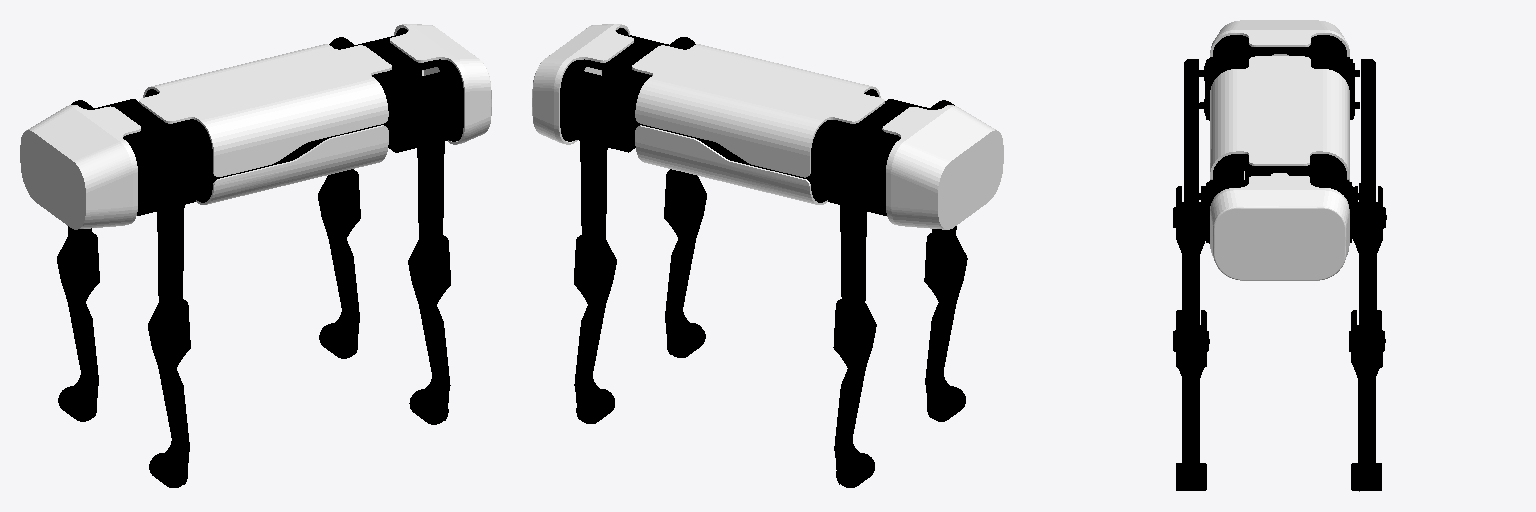
robot.urdf — Dog:
<?xml version="1.0"?>
<robot name="Dog">
    <material name="white">
        <color rgba="1 1 1 1" />
    </material>
    <material name="black">
        <color rgba="0 0 0 1" />
    </material>
    <material name="foot_color">
        <color rgba="0 0.75 1 1" />
    </material>
    <link name="base_link">
        <visual>
            <geometry>
                <mesh filename="package://URDF/frame.stl" />
            </geometry>
            <origin rpy="0 0 3.141" xyz="0 0 0.0" />
            <material name="black" />
        </visual>
        <inertial>
            <mass value="1.5" />
            <inertia ixx="0" ixy="0" ixz="0" iyy="0" iyz="0" izz="0" />
        </inertial>
    </link>
    <!-- shell -->
    <link name="frame">
        <visual>
            <geometry>
                <mesh filename="package://URDF/shell.stl" />
            </geometry>
            <origin rpy="0 0 3.141" xyz="0 0 0" />
            <material name="white" />
        </visual>
        <inertial>
            <mass value="0.025" />
            <inertia ixx="0.4" ixy="0.4" ixz="0.4" iyy="0.4" iyz="0.4" izz="0.4" />
        </inertial>
        <collision>
            <geometry>
                <mesh filename="package://URDF/shell.stl" />
            </geometry>
            <origin rpy="0 0 3.141" xyz="0 0 0.0" />
        </collision>
    </link>
    <joint name="base_to_frame" type="fixed">
        <parent link="base_link" />
        <child link="frame" />
        <origin xyz="0 0 0" />
    </joint>
    <!-- lf shoulder -->
    <link name="lf_shoulder">
        <visual>
            <geometry>
                <mesh filename="package://URDF/lf shoulder.stl" />
            </geometry>
            <origin rpy="3.141 3.141 0" xyz="0 0 0" />
            <material name="black" />
        </visual>
        <inertial>
            <mass value="0.025" />
            <inertia ixx="0.4" ixy="0.4" ixz="0.4" iyy="0.4" iyz="0.4" izz="0.4" />
        </inertial>
    </link>
    <joint name="lf_shoulder" type="continuous">
        <parent link="base_link" />
        <child link="lf_shoulder" />
        <origin xyz="0.090 0.037 0" />
        <axis xyz="1 0 0" />
    </joint>
    <link name="lf_thigh">
        <visual>
            <geometry>
                <mesh filename="package://URDF/femur.stl" />
            </geometry>
            <origin rpy="1.5708 0 1.5708" xyz="0 0 0" />
            <material name="black" />
        </visual>
        <inertial>
            <mass value="0.025" />
            <inertia ixx="0.4" ixy="0.4" ixz="0.4" iyy="0.4" iyz="0.4" izz="0.4" />
        </inertial>
    </link>
    <joint name="lf_thigh" type="continuous">
        <parent link="lf_shoulder" />
        <child link="lf_thigh" />
        <origin xyz="0.025 0.027 0 " />
        <axis xyz="0 1 0" />
    </joint>
    <link name="lf_shin">
        <visual>
            <geometry>
                <mesh filename="package://URDF/tibia.stl" />
            </geometry>
            <origin rpy="0.610865 0 -1.5708" xyz="0 0.008 0" />
            <material name="black" />
        </visual>
        <inertial>
            <mass value="0.025" />
            <inertia ixx="0.4" ixy="0.4" ixz="0.4" iyy="0.4" iyz="0.4" izz="0.4" />
        </inertial>
        <collision>
            <geometry>
                <mesh filename="package://URDF/tibia.stl" />
            </geometry>
            <origin rpy="0.610865 0 -1.5708" xyz="0 0.008 0" />
        </collision>
    </link>
    <joint name="lf_shin" type="continuous">
        <parent link="lf_thigh" />
        <child link="lf_shin" />
        <origin xyz="0 0 -0.130 " />
        <axis xyz="0 1 0" />
    </joint>
    <link name="lf_toe">
        <visual>
            <geometry>
                <sphere radius="0.005" />
            </geometry>
            <origin rpy="0 0 0" xyz="0 0 0" />
            <material name="foot_color" />
        </visual>
        <inertial>
            <mass value="0.05" />
            <inertia ixx="0.4" ixy="0.4" ixz="0.4" iyy="0.4" iyz="0.4" izz="0.4" />
        </inertial>
        <collision>
            <geometry>
                <sphere radius="0.020" />
            </geometry>
            <origin rpy="0 0 0" xyz="0 0 0" />
        </collision>
    </link>
    <joint name="lf_toe" type="fixed">
        <parent link="lf_shin" />
        <child link="lf_toe" />
        <origin xyz="0 0 -0.130" />
    </joint>
    <!-- rf shoulder -->
    <link name="rf_shoulder">
        <visual>
            <geometry>
                <mesh filename="package://URDF/rf shoulder.stl" />
            </geometry>
            <origin rpy="0 0 3.141" xyz="0 0 0" />
            <material name="black" />
        </visual>
        <inertial>
            <mass value="0.025" />
            <inertia ixx="0.4" ixy="0.4" ixz="0.4" iyy="0.4" iyz="0.4" izz="0.4" />
        </inertial>
    </link>
    <joint name="rf_shoulder" type="continuous">
        <parent link="base_link" />
        <child link="rf_shoulder" />
        <origin xyz="0.090 -0.040 0" />
        <axis xyz="1 0 0" />
    </joint>
    <link name="rf_thigh">
        <visual>
            <geometry>
                <mesh filename="package://URDF/femur.stl" />
            </geometry>
            <origin rpy="4.71239 3.141 1.5708" xyz="0 0 0" />
            <material name="black" />
        </visual>
        <inertial>
            <mass value="0.025" />
            <inertia ixx="0.4" ixy="0.4" ixz="0.4" iyy="0.4" iyz="0.4" izz="0.4" />
        </inertial>
    </link>
    <joint name="rf_thigh" type="continuous">
        <parent link="rf_shoulder" />
        <child link="rf_thigh" />
        <origin xyz="0.025 -0.027 0 " />
        <axis xyz="0 1 0" />
    </joint>
    <link name="rf_shin">
        <visual>
            <geometry>
                <mesh filename="package://URDF/tibia.stl" />
            </geometry>
            <origin rpy="0.610865 0 -1.5708" xyz="0 -0.0045 0" />
            <material name="black" />
        </visual>
        <inertial>
            <mass value="0.025" />
            <inertia ixx="0.4" ixy="0.4" ixz="0.4" iyy="0.4" iyz="0.4" izz="0.4" />
        </inertial>
        <collision>
            <geometry>
                <mesh filename="package://URDF/tibia.stl" />
            </geometry>
            <origin rpy="0.610865 0 -1.5708" xyz="0 -0.007 0" />
        </collision>
    </link>
    <joint name="rf_shin" type="continuous">
        <parent link="rf_thigh" />
        <child link="rf_shin" />
        <origin xyz="0 0 -0.130 " />
        <axis xyz="0 1 0" />
    </joint>
    <link name="rf_toe">
        <visual>
            <geometry>
                <sphere radius="0.005" />
            </geometry>
            <origin rpy="0 0 0" xyz="0 0 0" />
            <material name="foot_color" />
        </visual>
        <inertial>
            <mass value="0.05" />
            <inertia ixx="0.4" ixy="0.4" ixz="0.4" iyy="0.4" iyz="0.4" izz="0.4" />
        </inertial>
        <collision>
            <geometry>
                <sphere radius="0.020" />
            </geometry>
            <origin rpy="0 0 0" xyz="0 0 0" />
        </collision>
    </link>
    <joint name="rf_toe" type="fixed">
        <parent link="rf_shin" />
        <child link="rf_toe" />
        <origin xyz="0 0 -0.130" />
    </joint>
    <!-- lb shoulder -->
    <link name="lb_shoulder">
        <visual>
            <geometry>
                <mesh filename="package://URDF/lb shoulder.stl" />
            </geometry>
            <origin rpy="3.141 3.141 0" xyz="0 0 0" />
            <material name="black" />
        </visual>
        <inertial>
            <mass value="0.025" />
            <inertia ixx="0.4" ixy="0.4" ixz="0.4" iyy="0.4" iyz="0.4" izz="0.4" />
        </inertial>
    </link>
    <joint name="lb_shoulder" type="continuous">
        <parent link="base_link" />
        <child link="lb_shoulder" />
        <origin xyz="-0.081 0.038 0" />
        <axis xyz="1 0 0" />
    </joint>
    <link name="lb_thigh">
        <visual>
            <geometry>
                <mesh filename="package://URDF/femur.stl" />
            </geometry>
            <origin rpy="1.5708 0 1.5708" xyz="0 0 0" />
            <material name="black" />
        </visual>
        <inertial>
            <mass value="0.025" />
            <inertia ixx="0.4" ixy="0.4" ixz="0.4" iyy="0.4" iyz="0.4" izz="0.4" />
        </inertial>
    </link>
    <joint name="lb_thigh" type="continuous">
        <parent link="lb_shoulder" />
        <child link="lb_thigh" />
        <origin xyz="-0.043 0.027 0 " />
        <axis xyz="0 1 0" />
    </joint>
    <link name="lb_shin">
        <visual>
            <geometry>
                <mesh filename="package://URDF/tibia.stl" />
            </geometry>
            <origin rpy="0.610865 0 -1.5708" xyz="0 0.008 0" />
            <material name="black" />
        </visual>
        <inertial>
            <mass value="0.025" />
            <inertia ixx="0.4" ixy="0.4" ixz="0.4" iyy="0.4" iyz="0.4" izz="0.4" />
        </inertial>
        <collision>
            <geometry>
                <mesh filename="package://URDF/tibia.stl" />
            </geometry>
            <origin rpy="0.610865 0 -1.5708" xyz="0 0.008 0" />
        </collision>
    </link>
    <joint name="lb_shin" type="continuous">
        <parent link="lb_thigh" />
        <child link="lb_shin" />
        <origin xyz="0 0 -0.130 " />
        <axis xyz="0 1 0" />
    </joint>
    <link name="lb_toe">
        <visual>
            <geometry>
                <sphere radius="0.0005" />
            </geometry>
            <origin rpy="0 0 0" xyz="0 0 0" />
            <material name="foot_color" />
        </visual>
        <inertial>
            <mass value="0.05" />
            <inertia ixx="0.4" ixy="0.4" ixz="0.4" iyy="0.4" iyz="0.4" izz="0.4" />
        </inertial>
        <collision>
            <geometry>
                <sphere radius="0.020" />
            </geometry>
            <origin rpy="0 0 0" xyz="0 0 0" />
        </collision>
    </link>
    <joint name="lb_toe" type="fixed">
        <parent link="lb_shin" />
        <child link="lb_toe" />
        <origin xyz="0 0 -0.130" />
    </joint>
    <!-- rb arm -->
    <link name="rb_shoulder">
        <visual>
            <geometry>
                <mesh filename="package://URDF/rb shoulder.stl" />
            </geometry>
            <origin rpy="3.141 3.141 0" xyz="0 0 0" />
            <material name="black" />
        </visual>
        <inertial>
            <mass value="0.025" />
            <inertia ixx="0.4" ixy="0.4" ixz="0.4" iyy="0.4" iyz="0.4" izz="0.4" />
        </inertial>
    </link>
    <joint name="rb_shoulder" type="continuous">
        <parent link="base_link" />
        <child link="rb_shoulder" />
        <origin xyz="-0.081 -0.040 0" />
        <axis xyz="1 0 0" />
    </joint>
    <link name="rb_thigh">
        <visual>
            <geometry>
                <mesh filename="package://URDF/femur.stl" />
            </geometry>
            <origin rpy="4.71239 3.141 1.5708" xyz="0 0 0" />
            <material name="black" />
        </visual>
        <inertial>
            <mass value="0.025" />
            <inertia ixx="0.4" ixy="0.4" ixz="0.4" iyy="0.4" iyz="0.4" izz="0.4" />
        </inertial>
    </link>
    <joint name="rb_thigh" type="continuous">
        <parent link="rb_shoulder" />
        <child link="rb_thigh" />
        <origin xyz="-0.043 -0.027 0 " />
        <axis xyz="0 1 0" />
    </joint>
    <link name="rb_shin">
        <visual>
            <geometry>
                <mesh filename="package://URDF/tibia.stl" />
            </geometry>
            <origin rpy="0.610865 0 -1.5708" xyz="0 -0.0045 0" />
            <material name="black" />
        </visual>
        <inertial>
            <mass value="0.025" />
            <inertia ixx="0.4" ixy="0.4" ixz="0.4" iyy="0.4" iyz="0.4" izz="0.4" />
        </inertial>
        <collision>
            <geometry>
                <mesh filename="package://URDF/tibia.stl" />
            </geometry>
            <origin rpy="0.610865 0 -1.5708" xyz="0 -0.007 0" />
        </collision>
    </link>
    <joint name="rb_shin" type="continuous">
        <parent link="rb_thigh" />
        <child link="rb_shin" />
        <origin xyz="0 0 -0.130 " />
        <axis xyz="0 1 0" />
    </joint>
    <link name="rb_toe">
        <visual>
            <geometry>
                <sphere radius="0.0005" />
            </geometry>
            <origin rpy="0 0 0" xyz="0 0 0" />
            <material name="foot_color" />
        </visual>
        <inertial>
            <mass value="0.05" />
            <inertia ixx="0.4" ixy="0.4" ixz="0.4" iyy="0.4" iyz="0.4" izz="0.4" />
        </inertial>
        <collision>
            <geometry>
                <sphere radius="0.020" />
            </geometry>
            <origin rpy="0 0 0" xyz="0 0 0" />
        </collision>
    </link>
    <joint name="rb_toe" type="fixed">
        <parent link="rb_shin" />
        <child link="rb_toe" />
        <origin xyz="0 0 -0.130" />
    </joint>
</robot>

--- Render facts (derived) ---
3 views of the same robot in one strip: view 1: azimuth 30°, elevation 25°; view 2: azimuth 150°, elevation 25°; view 3: azimuth 270°, elevation 25° (orthographic).
Robot: Dog — 18 links, 17 joints (12 continuous, 5 fixed); root link base_link; default pose: every joint at zero.
Visible links, largest first — view 1: frame, base_link, lf_shin, lb_shin, rf_shin, rb_shin, rb_thigh, rf_thigh, rf_shoulder, rb_shoulder; view 2: frame, base_link, rb_shin, lb_shin, lf_shin, rf_shin, lf_thigh, lb_thigh, lf_shoulder, lb_shoulder; view 3: frame, rf_shin, lf_shin, base_link, lf_thigh, rf_thigh, lb_thigh, rb_thigh, rb_shoulder, lb_shoulder, rf_shoulder, rb_shin (+2 smaller).
Link boxes in pixels (x1=…): frame: x1=20, y1=24, x2=491, y2=229; base_link: x1=118, y1=28, x2=463, y2=202; lf_shin: x1=318, y1=169, x2=360, y2=358; lb_shin: x1=57, y1=232, x2=99, y2=421; rf_shin: x1=408, y1=235, x2=450, y2=424; rb_shin: x1=148, y1=299, x2=190, y2=487; rb_thigh: x1=154, y1=166, x2=184, y2=321; rf_thigh: x1=415, y1=102, x2=445, y2=257; rf_shoulder: x1=383, y1=71, x2=457, y2=152; rb_shoulder: x1=131, y1=135, x2=199, y2=215; frame: x1=532, y1=24, x2=1003, y2=229; base_link: x1=560, y1=28, x2=904, y2=202; rb_shin: x1=924, y1=232, x2=967, y2=421; lb_shin: x1=833, y1=299, x2=876, y2=487; lf_shin: x1=574, y1=235, x2=616, y2=423; rf_shin: x1=664, y1=169, x2=706, y2=357; lf_thigh: x1=579, y1=102, x2=609, y2=257; lb_thigh: x1=839, y1=166, x2=869, y2=321; lf_shoulder: x1=567, y1=71, x2=641, y2=152; lb_shoulder: x1=824, y1=135, x2=892, y2=215; frame: x1=1210, y1=20, x2=1349, y2=280; rf_shin: x1=1173, y1=310, x2=1209, y2=490; lf_shin: x1=1349, y1=310, x2=1385, y2=490; base_link: x1=1213, y1=35, x2=1346, y2=179; lf_thigh: x1=1359, y1=183, x2=1374, y2=350; rf_thigh: x1=1184, y1=183, x2=1198, y2=350; lb_thigh: x1=1361, y1=59, x2=1375, y2=223; rb_thigh: x1=1184, y1=59, x2=1198, y2=185; rb_shoulder: x1=1199, y1=47, x2=1250, y2=120; lb_shoulder: x1=1309, y1=47, x2=1359, y2=119; rf_shoulder: x1=1199, y1=170, x2=1248, y2=243; rb_shin: x1=1173, y1=186, x2=1206, y2=367.
Bounding box of the posed robot: 0.3716 × 0.1749 × 0.2921 m (x, y, z).
14 mesh visuals loaded from 8 distinct referenced files (8 binary STL).
